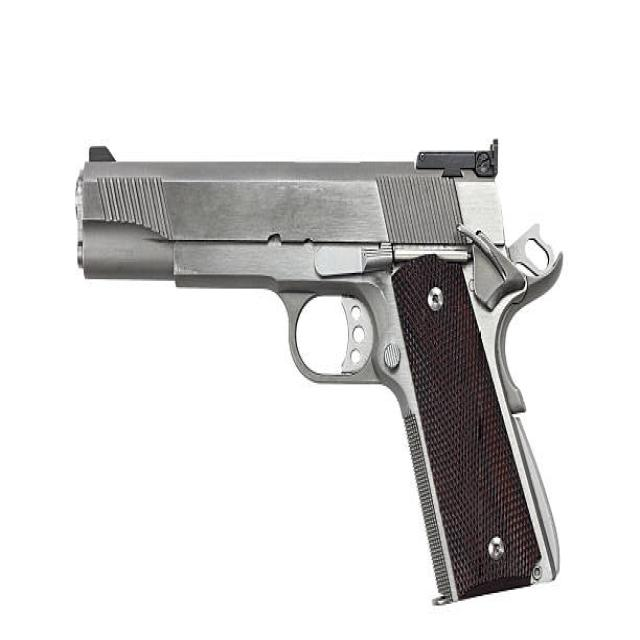pistol: (65, 136, 572, 616)
